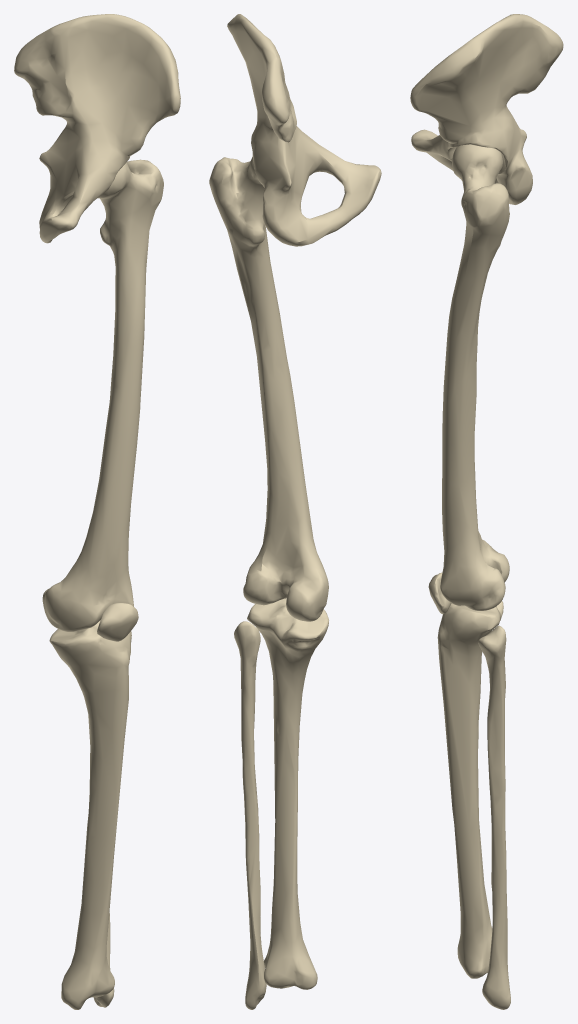
File: legb.glb
The picture shows the model from 3 angles, left to right: view 1: azimuth 30°, elevation 25°; view 2: azimuth 150°, elevation 25°; view 3: azimuth 270°, elevation 25°; orthographic projection.
Visible parts, largest first — view 1: left hip bone, left femur, left tibia, left patella; view 2: left femur, left hip bone, left tibia, left fibula; view 3: left femur, left hip bone, left tibia, left fibula, left patella.
Boxes of the visible parts, x1,y1,x2,y2 form: left hip bone: (14, 14, 180, 243); left femur: (42, 159, 163, 631); left tibia: (49, 620, 131, 1009); left patella: (97, 603, 138, 641); left femur: (209, 157, 328, 621); left hip bone: (227, 14, 381, 246); left tibia: (247, 598, 328, 989); left fibula: (234, 621, 266, 1009); left femur: (440, 144, 509, 610); left hip bone: (410, 14, 563, 204); left tibia: (437, 601, 503, 978); left fibula: (478, 625, 510, 1009); left patella: (428, 572, 451, 614).
Size of the model in its own units: 0.1475 by 0.9833 by 0.1378.
